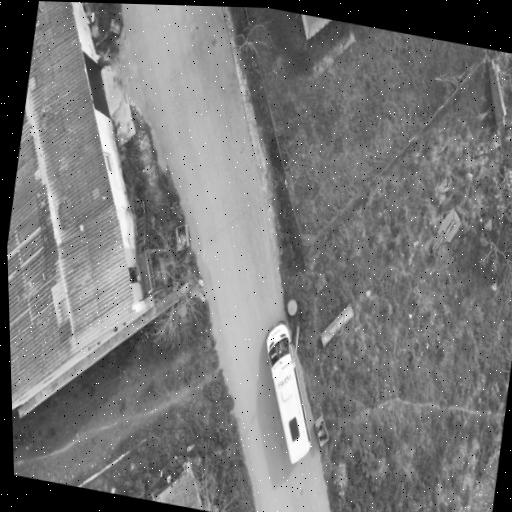bus: (267, 321, 310, 462)
